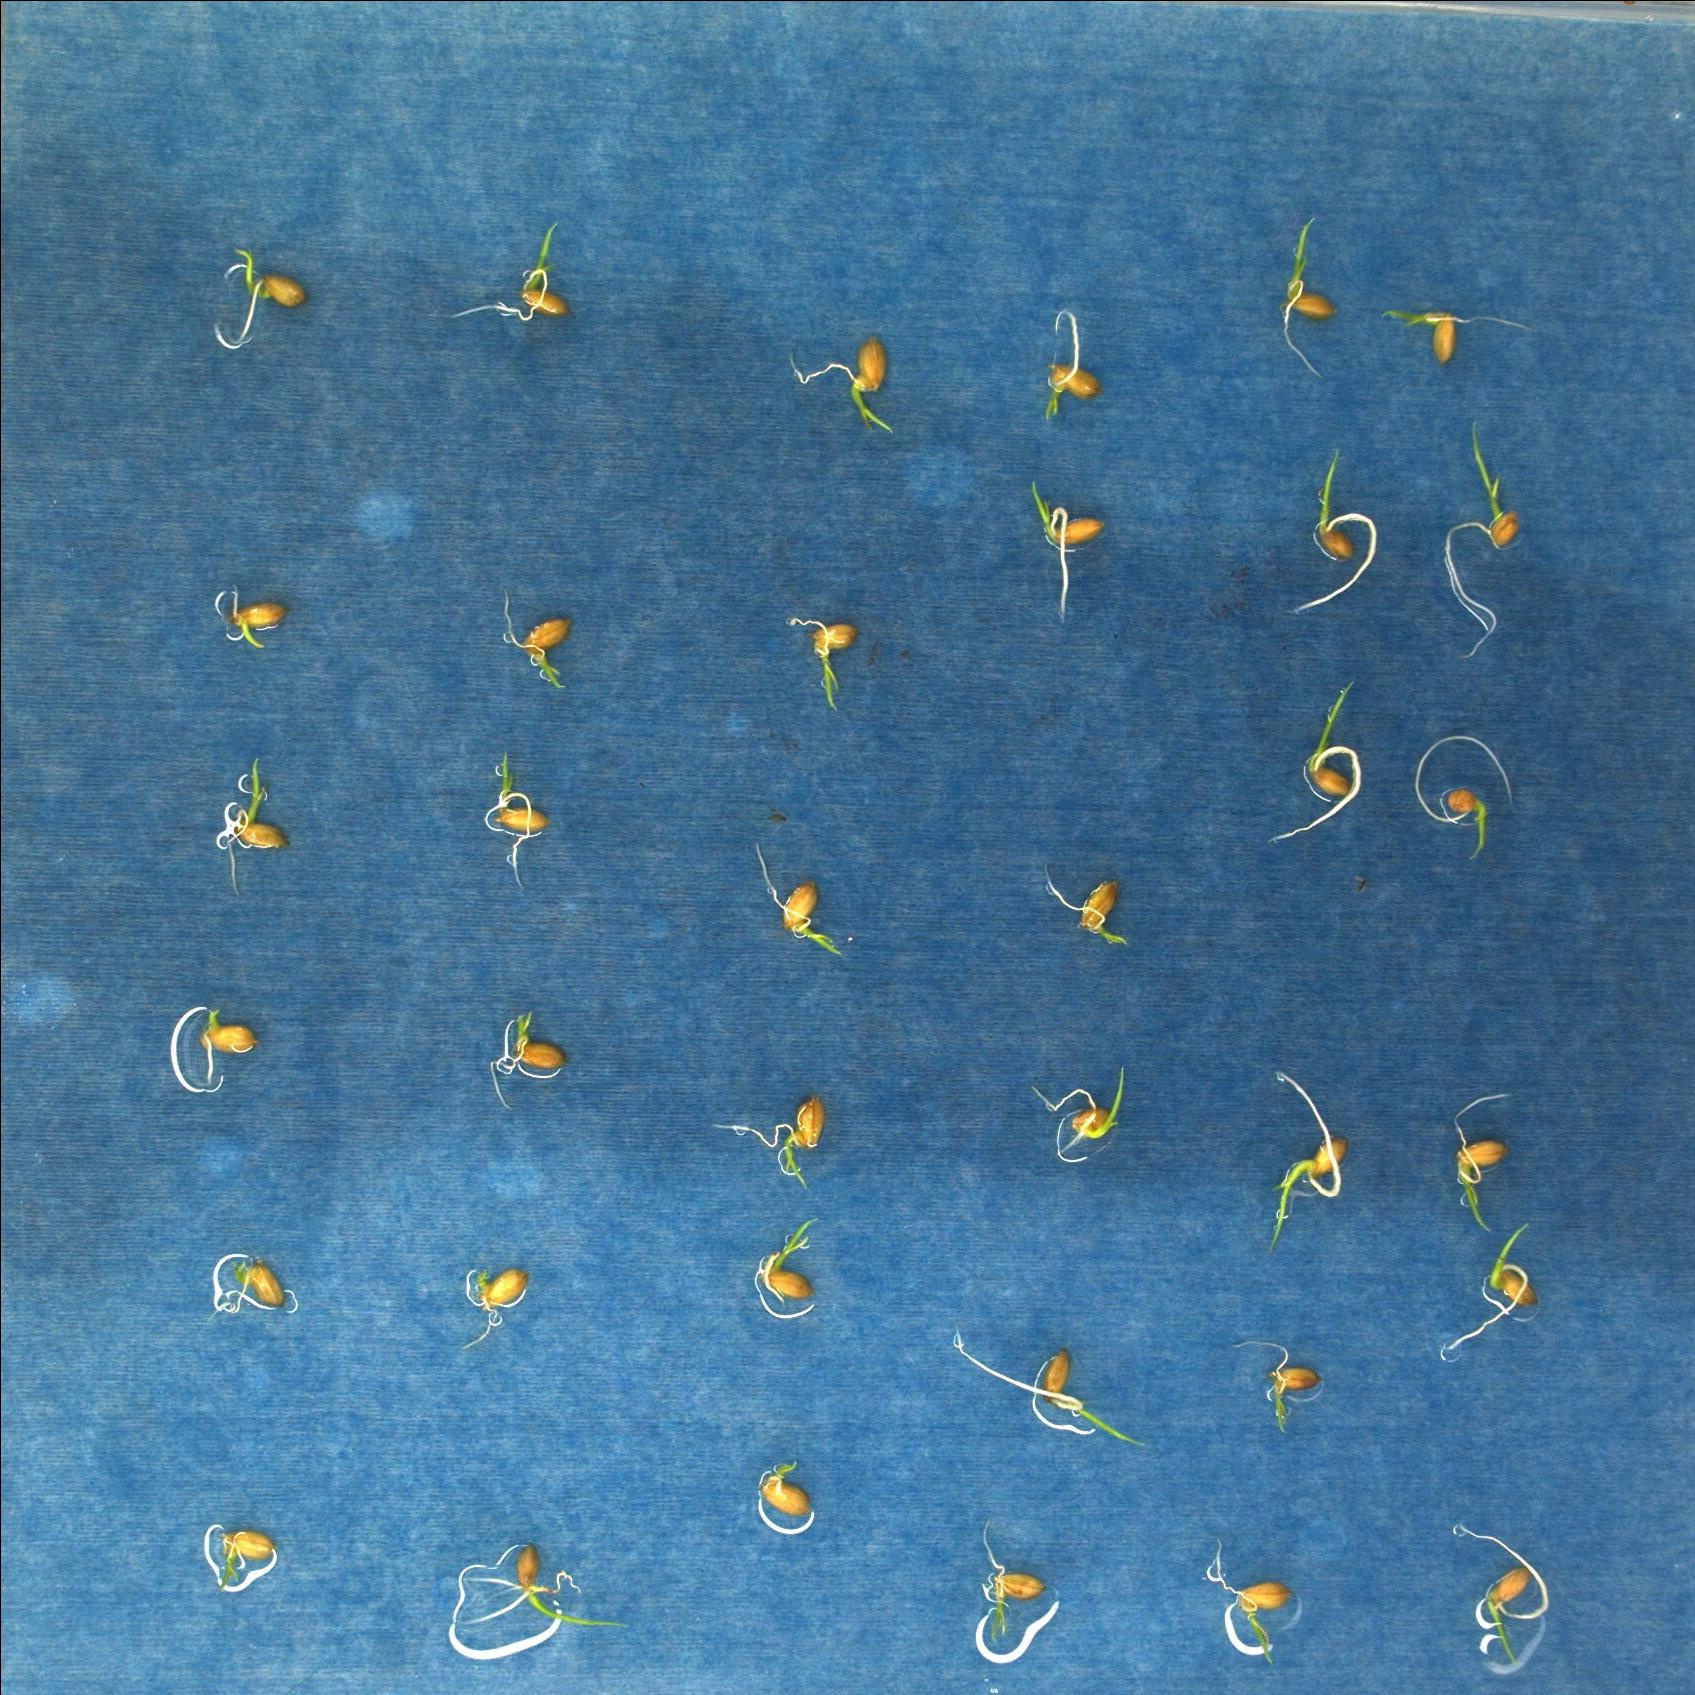not sprout: (463, 1267, 536, 1352), (224, 1257, 282, 1315), (759, 1464, 812, 1516)
sprout: (958, 1324, 1155, 1453), (1444, 418, 1523, 658), (453, 1540, 632, 1630), (1267, 1066, 1347, 1260), (1271, 671, 1360, 841), (1298, 447, 1378, 615), (452, 220, 577, 326), (1459, 1524, 1551, 1666), (1447, 1218, 1543, 1352), (1414, 733, 1513, 861), (1206, 1534, 1298, 1670), (757, 840, 854, 962), (711, 1093, 827, 1187), (793, 332, 899, 435), (1031, 477, 1105, 619), (1281, 213, 1338, 380), (1378, 310, 1532, 371), (1034, 1063, 1125, 1163), (1451, 1093, 1515, 1234), (979, 1516, 1048, 1647), (1232, 1336, 1324, 1433), (495, 747, 554, 893), (224, 761, 286, 897), (486, 1010, 568, 1111), (501, 587, 577, 692), (1043, 860, 1132, 948), (789, 615, 865, 708), (234, 248, 306, 343), (1045, 304, 1101, 424), (761, 1212, 820, 1304), (208, 1526, 276, 1600), (199, 1007, 262, 1083), (228, 588, 290, 653)
